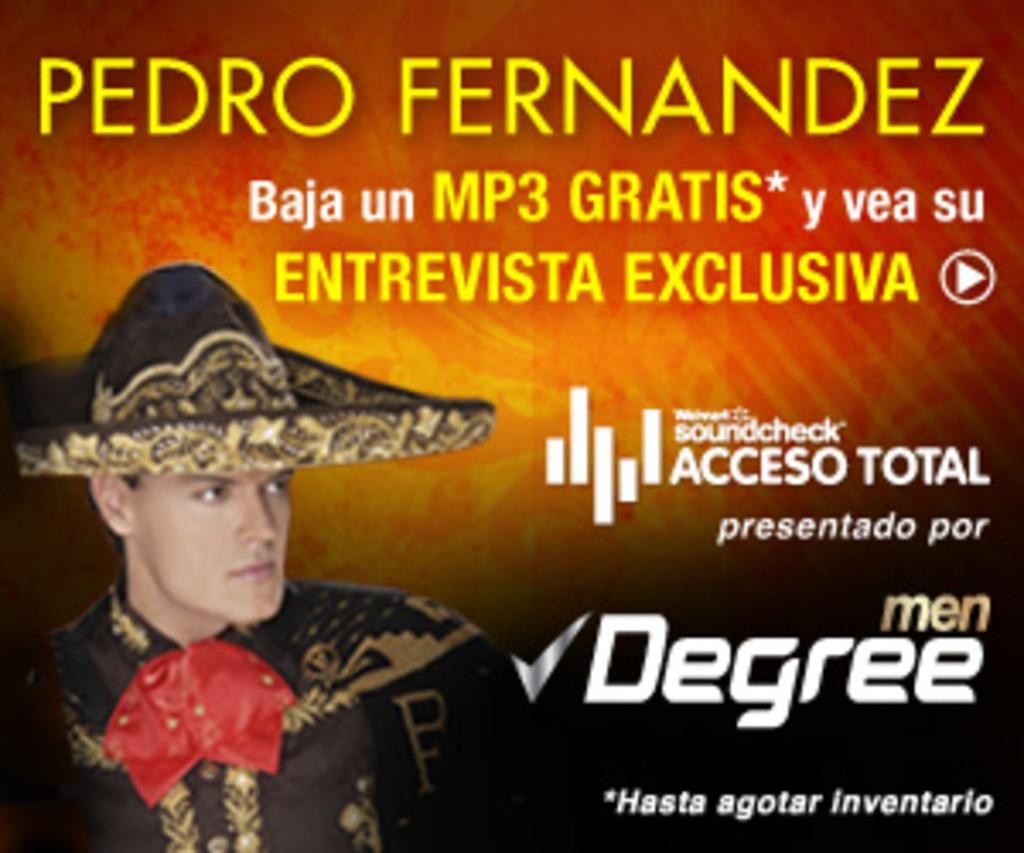Hat: (13, 262, 498, 477)
